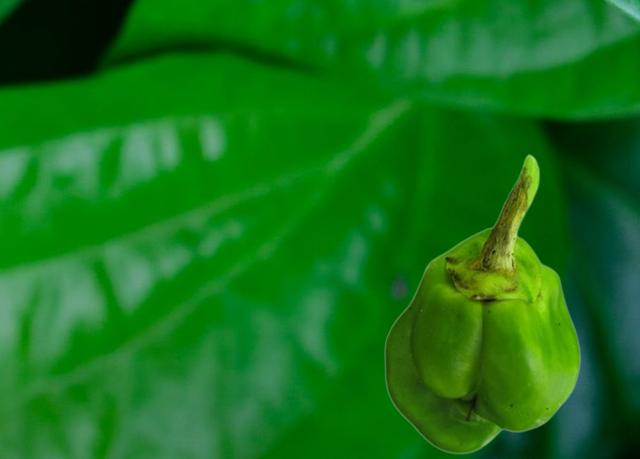bell_pepper: (383, 153, 580, 453)
